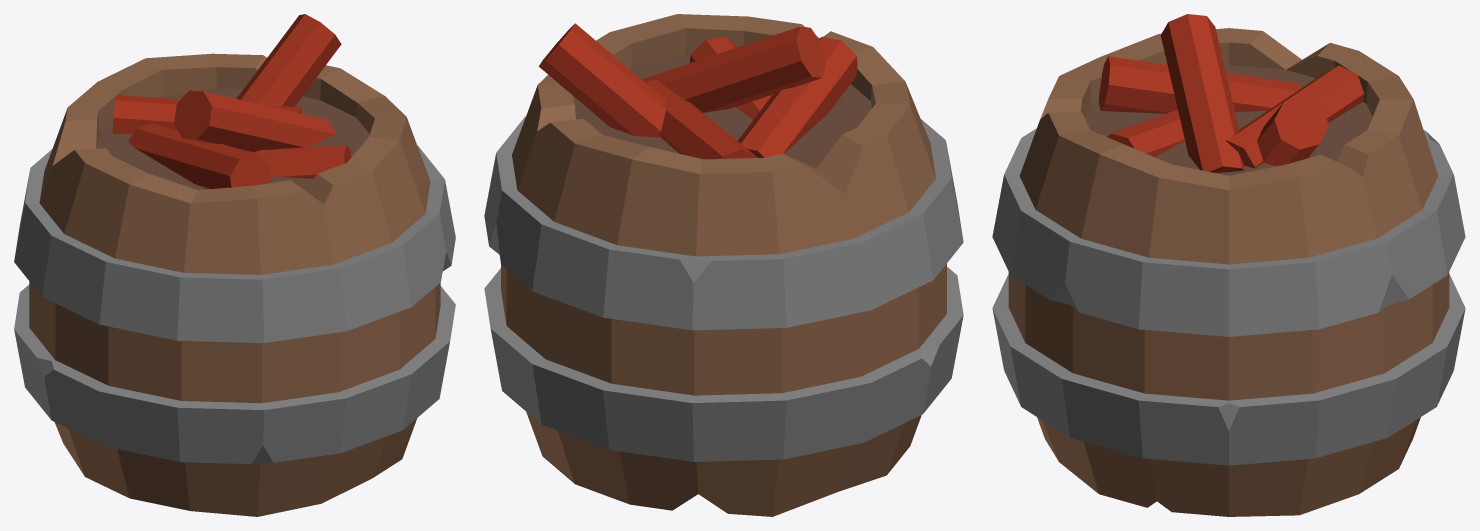
The model's file is barrel2.fbx.
The picture shows the model from 3 angles, left to right: view 1: azimuth 30°, elevation 25°; view 2: azimuth 150°, elevation 25°; view 3: azimuth 270°, elevation 25°; orthographic projection. The views are drawn at different scales.
Visible parts, largest first — view 1: Cylinder; view 2: Cylinder; view 3: Cylinder.
Part boxes in pixels (box(x1,y1,x2,y2)): Cylinder: box(14, 14, 455, 516); Cylinder: box(484, 14, 963, 516); Cylinder: box(992, 14, 1465, 516).
Size of the model in its own units: 257 by 242 by 257.
